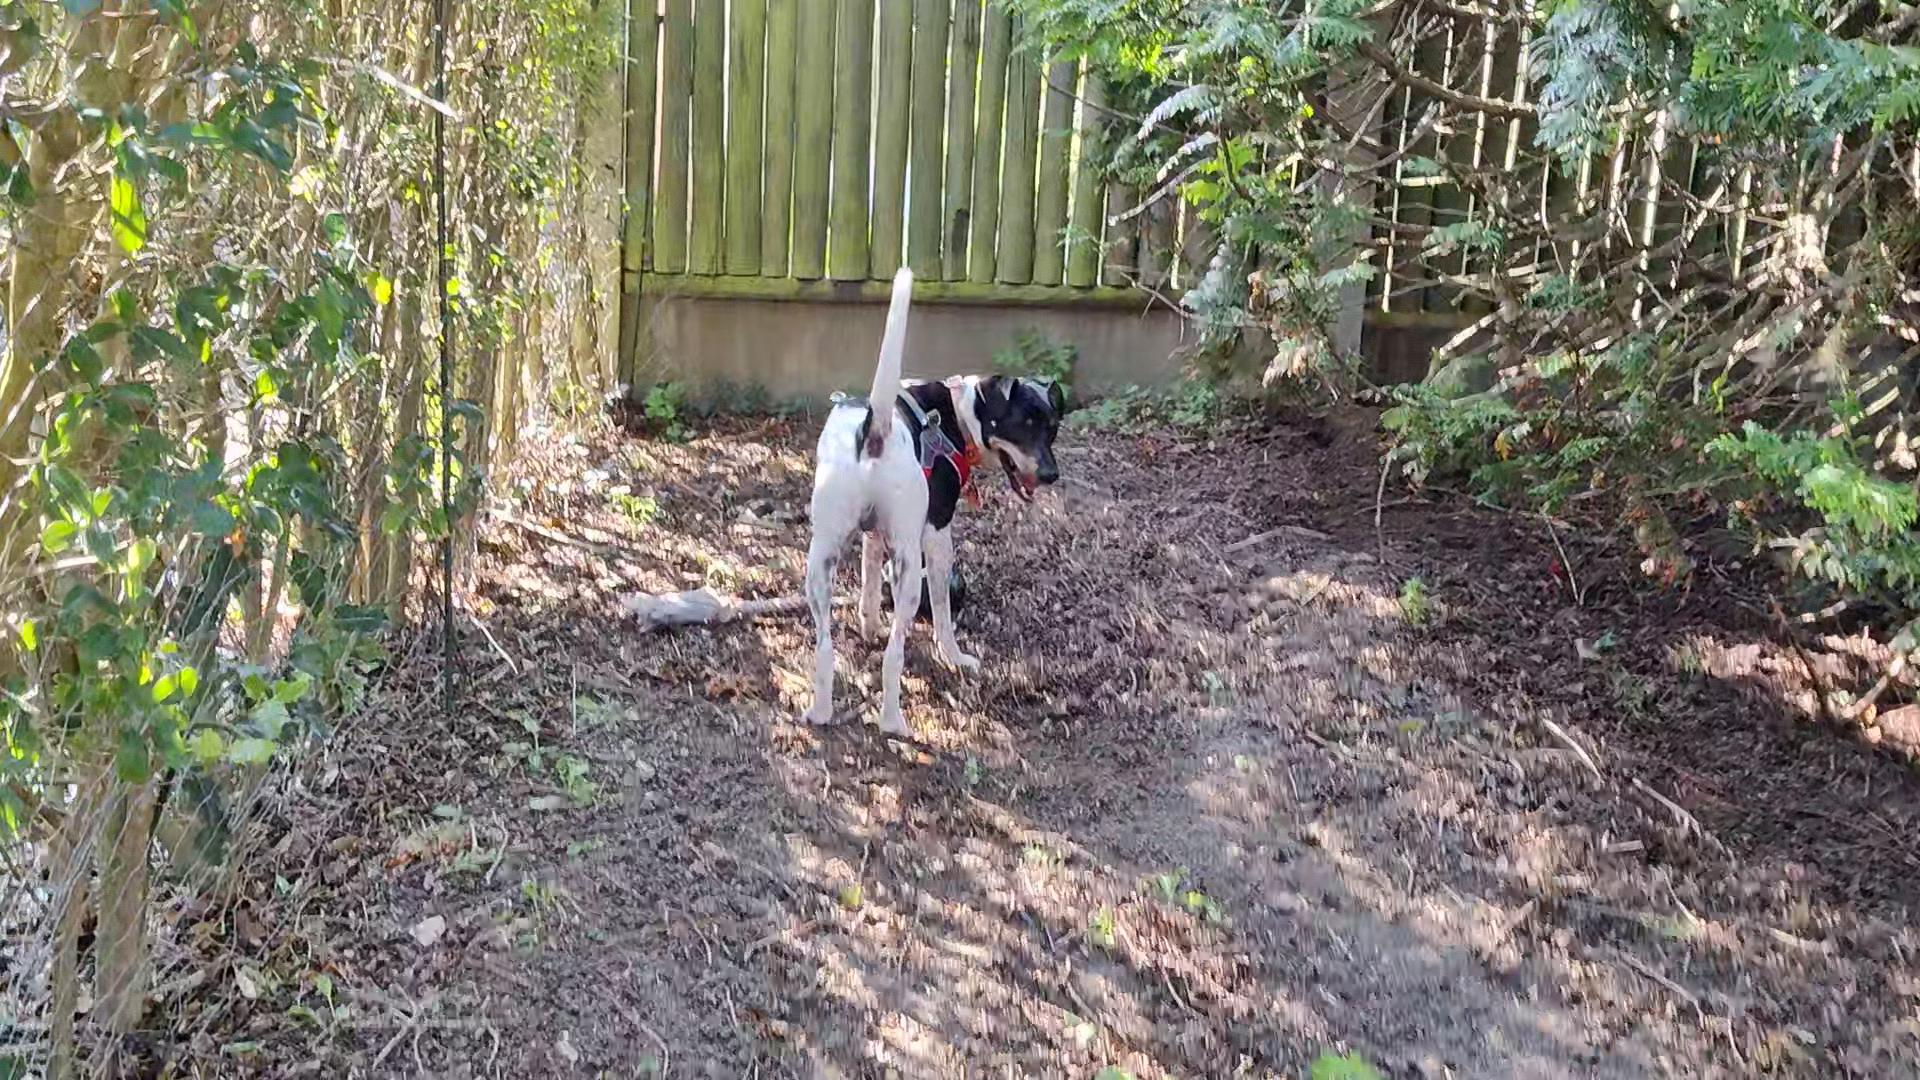Dog: (796, 251, 1077, 741)
